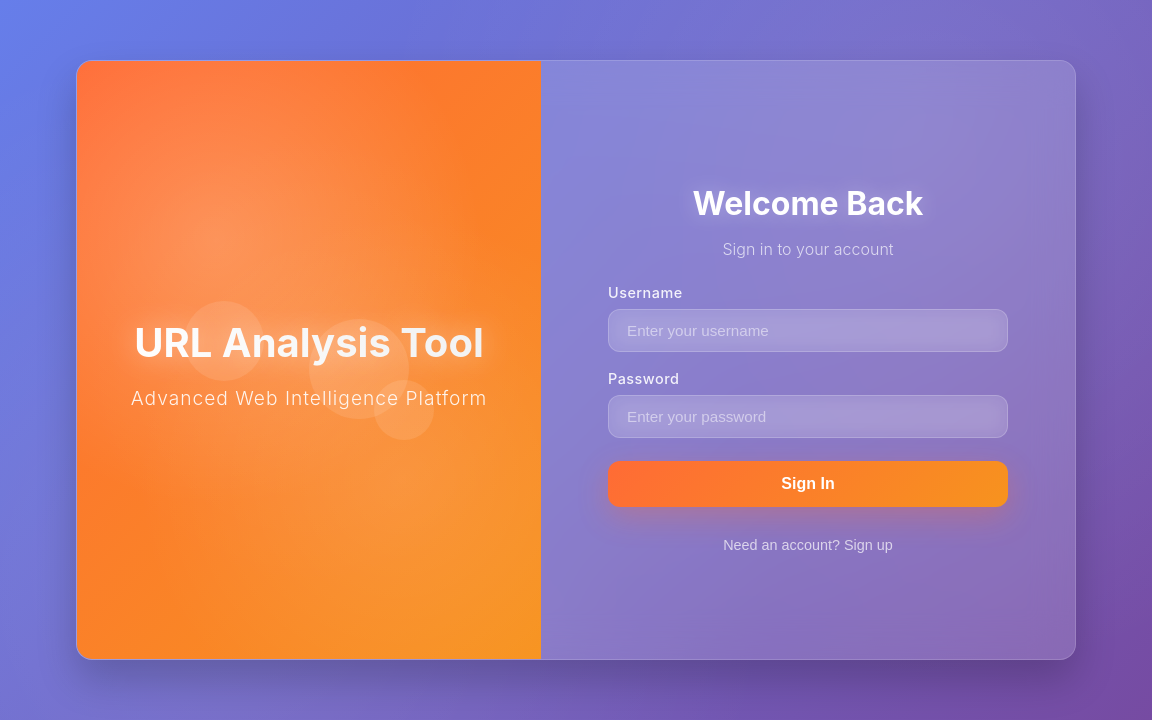
Test: AuthForm › shows validation error for short username on register
Note: Switch to register form
Click the button "Need an account? Sign up" at (808, 545), box [713,527,903,563]
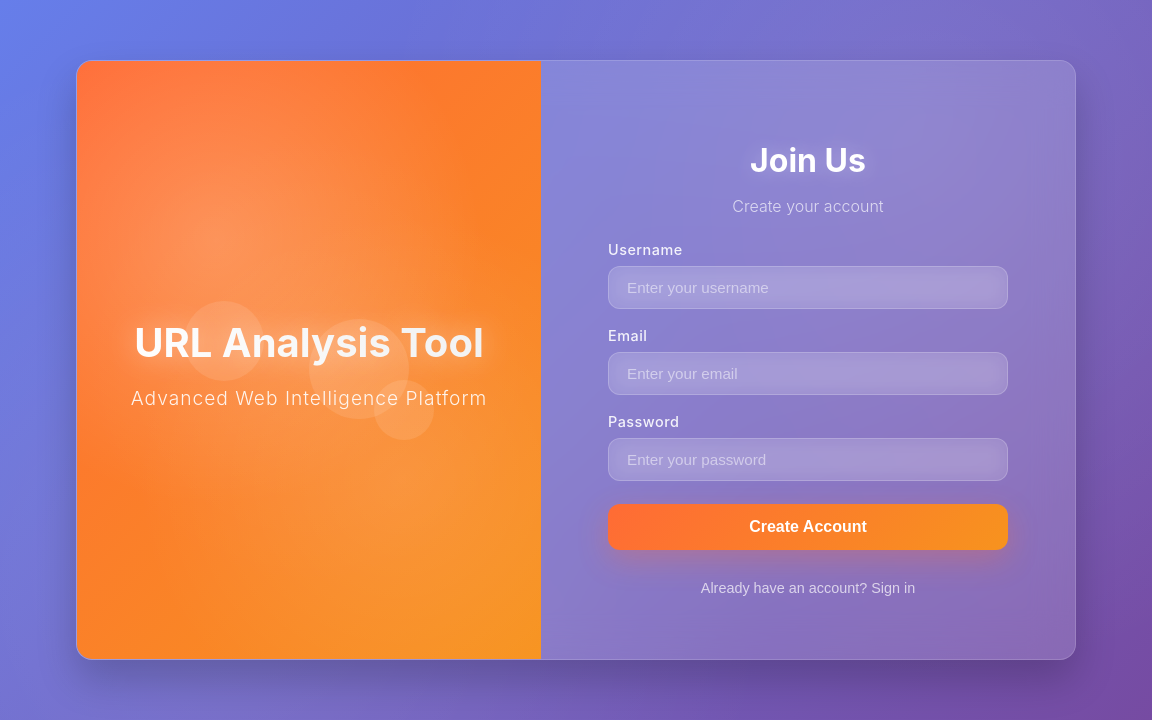
Type "ab" into the field with placeholder "Enter your username" at (808, 287), box [608,266,1008,309]
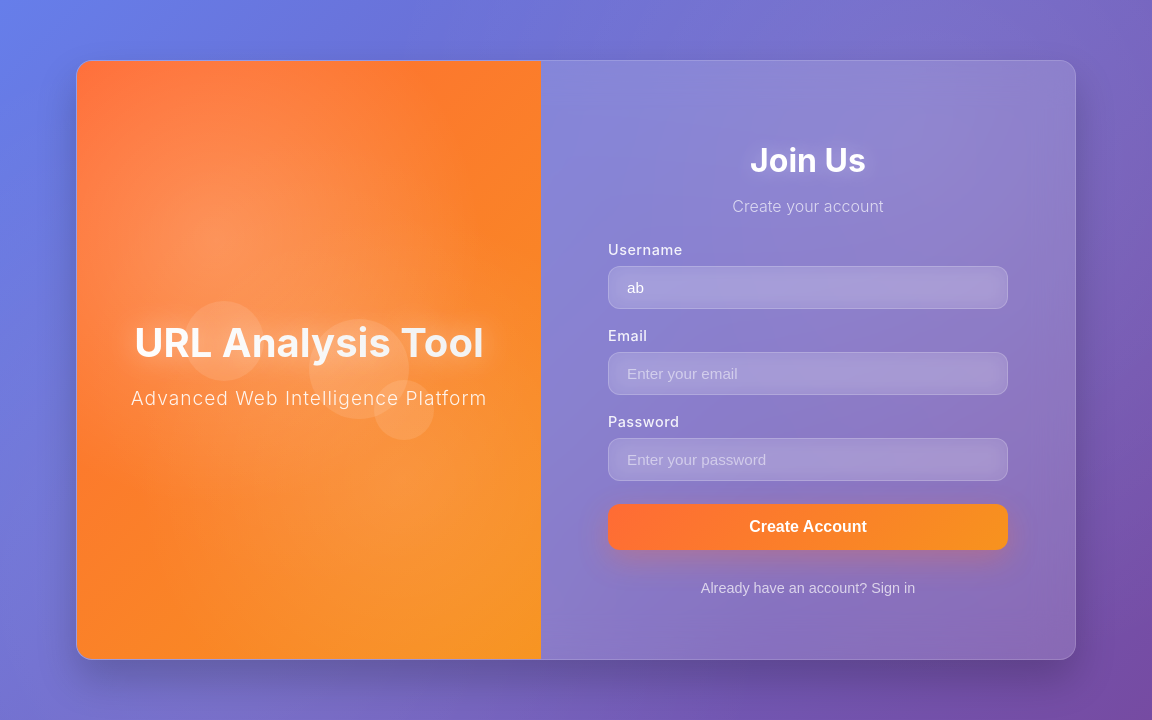
Type "test@example.com" into the field with placeholder "Enter your email" at (808, 373), box [608,352,1008,395]
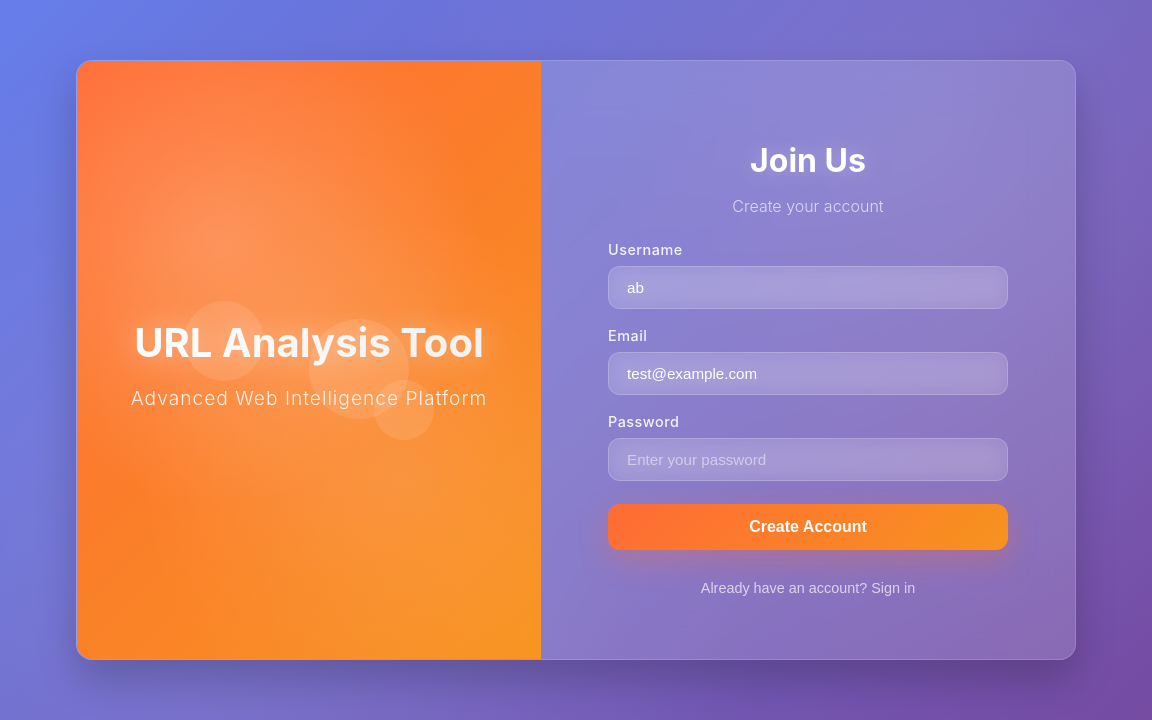
Type "password123" into the password field with placeholder "Enter your password" at (808, 459), box [608,438,1008,481]
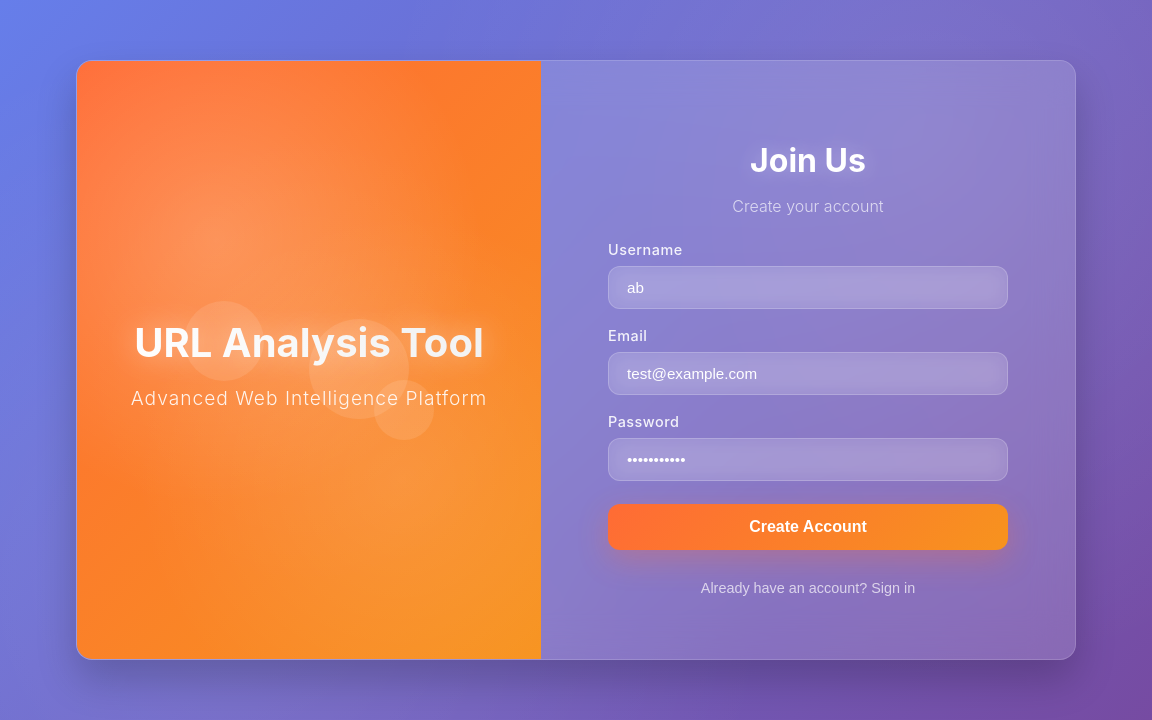
Click the button "Create Account" at (808, 527), box [608,504,1008,550]
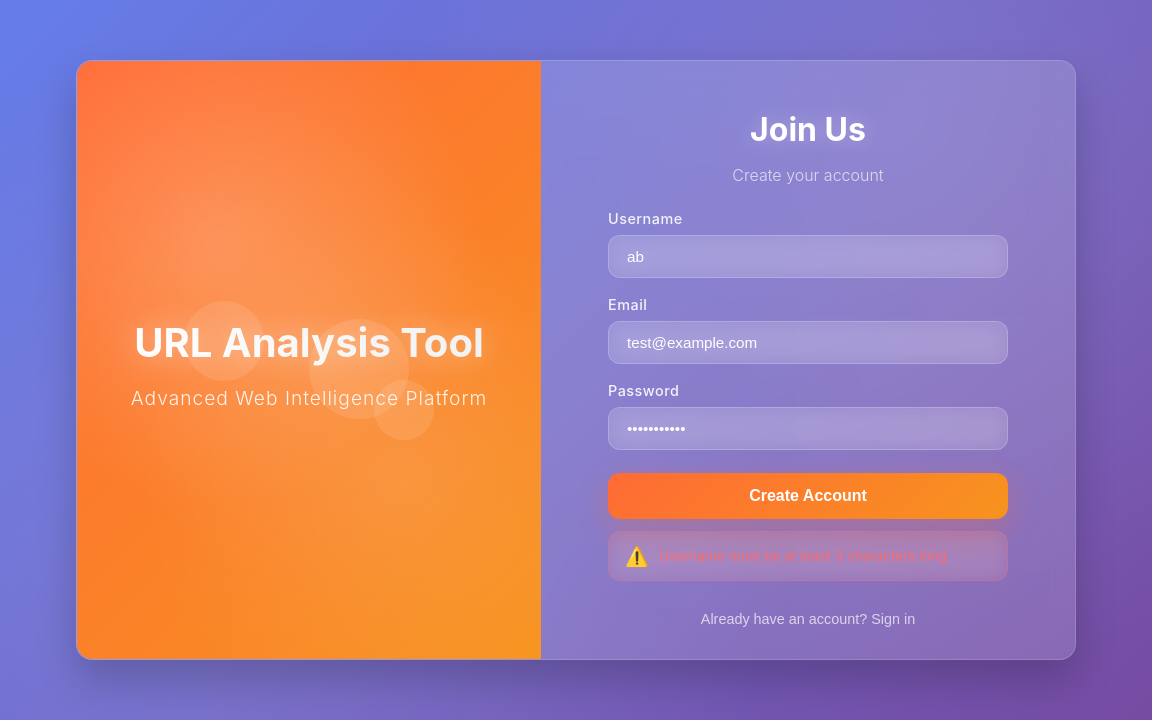
Now the text "Username must be at least 3 characters long" is shown, box [659,548,991,564]
